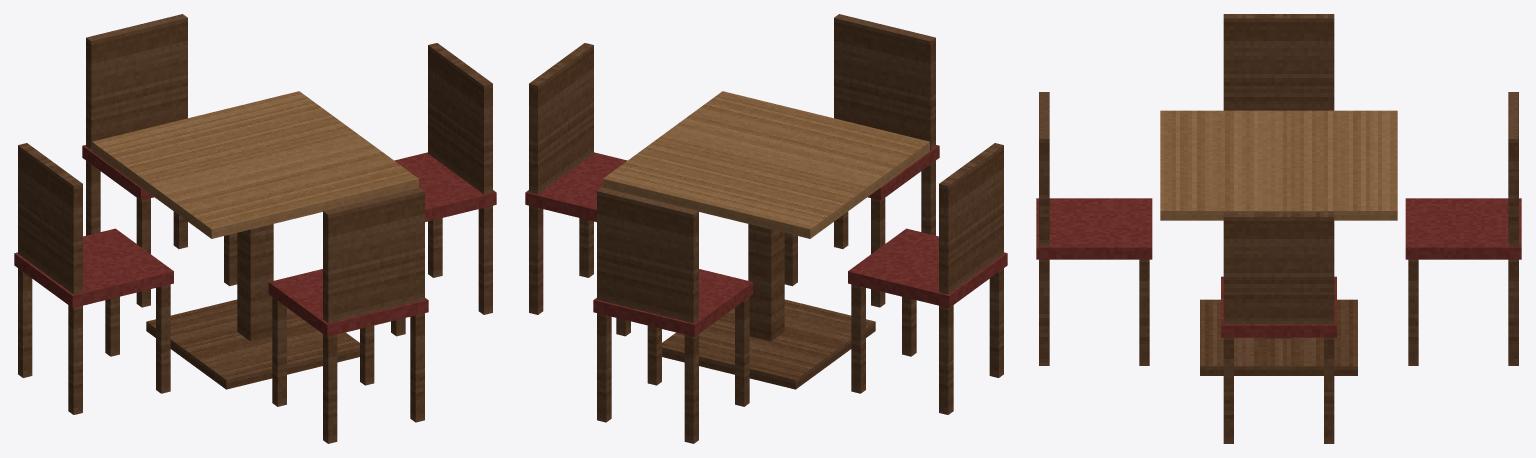
Rendered from pub_table.glb.
3 views of the same model, side by side, from view 1: azimuth 30°, elevation 25°; view 2: azimuth 150°, elevation 25°; view 3: azimuth 270°, elevation 25° (orthographic).
Parts seen in each view (by area): view 1: pub_table; view 2: pub_table; view 3: pub_table.
Boxes of the visible parts, left/top/right/bottom form: pub_table: left=14, top=14, right=496, bottom=443; pub_table: left=525, top=14, right=1007, bottom=443; pub_table: left=1036, top=14, right=1521, bottom=443.
Bounding box in the file's own units: 1.84 × 0.95 × 1.84.
Materials: 3 (3 with a texture image).
